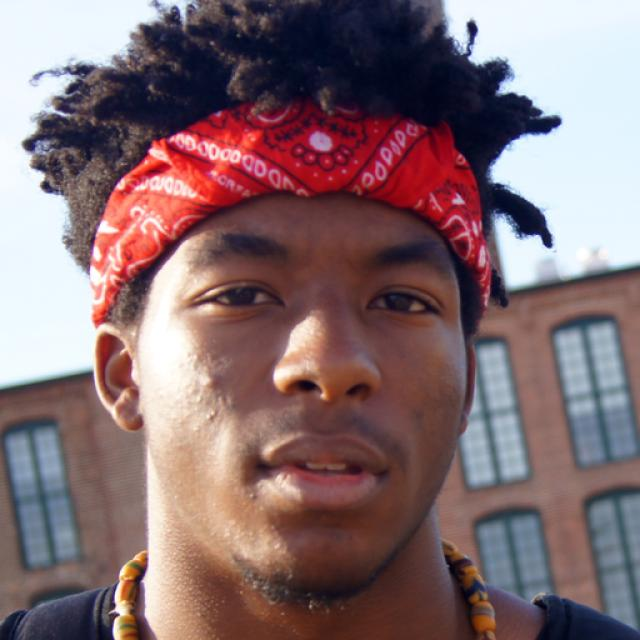Acne: (182, 343, 226, 368), (180, 381, 206, 420), (199, 372, 227, 395), (200, 405, 223, 432)
Spots: (401, 394, 438, 441)
